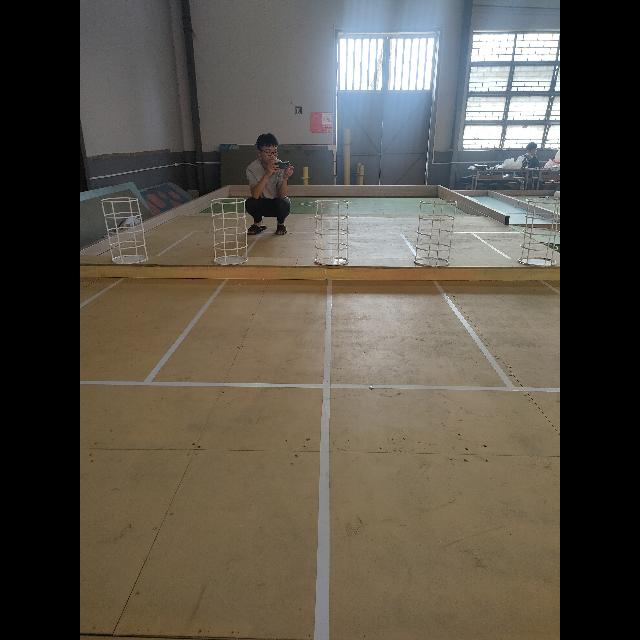S: (101, 195, 152, 266), (210, 196, 249, 266), (314, 199, 350, 268)
